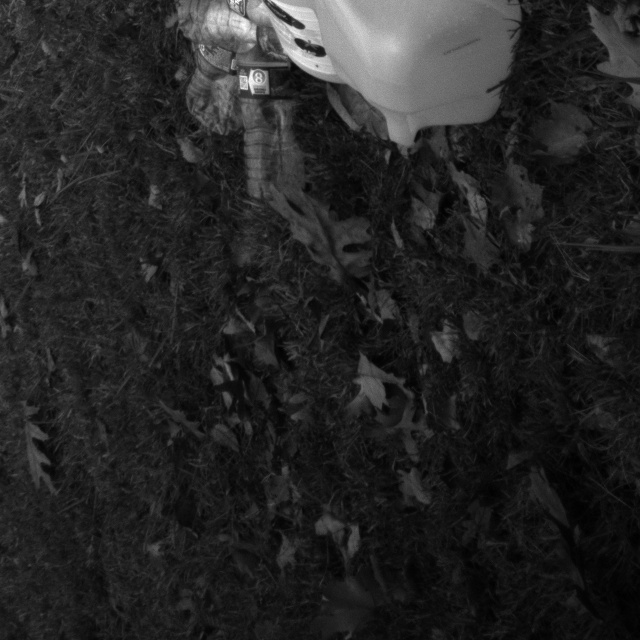bottle: (225, 11, 306, 202)
can: (311, 0, 520, 141), (218, 0, 360, 83)
